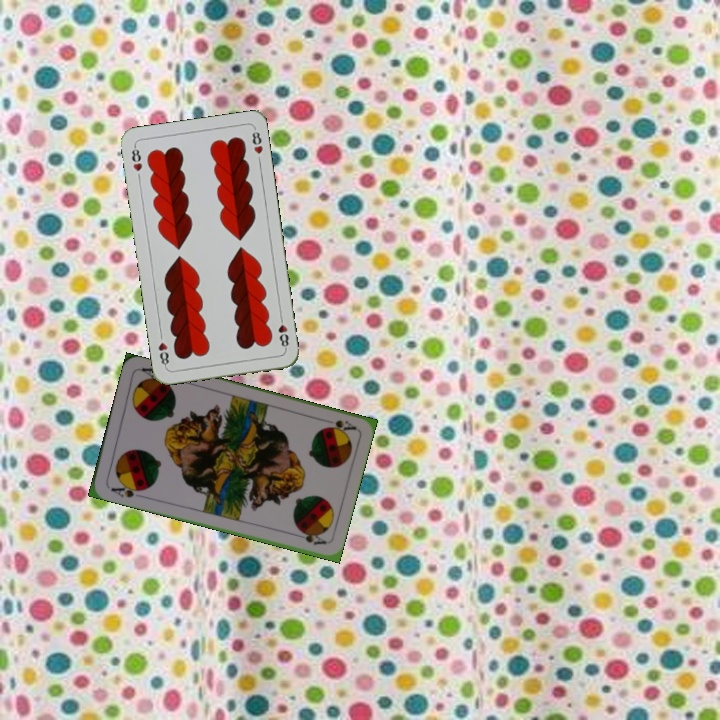H8: (274, 312, 291, 352), (128, 142, 145, 174)
SA: (107, 479, 147, 500), (321, 416, 359, 435)
